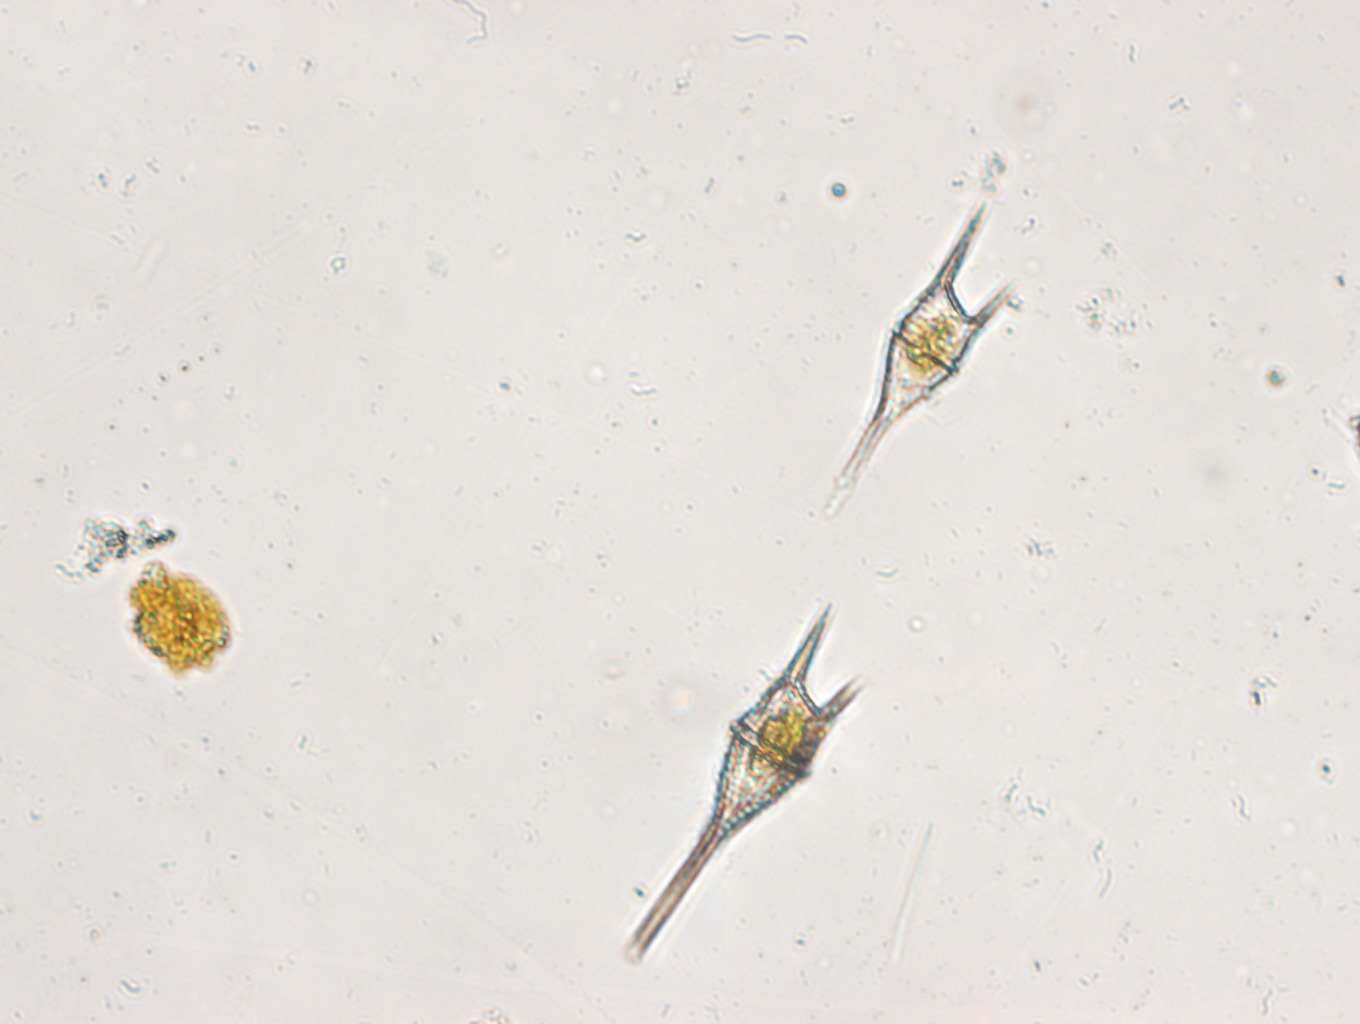ceratium furca: (630, 603, 867, 963), (824, 190, 1019, 517)
